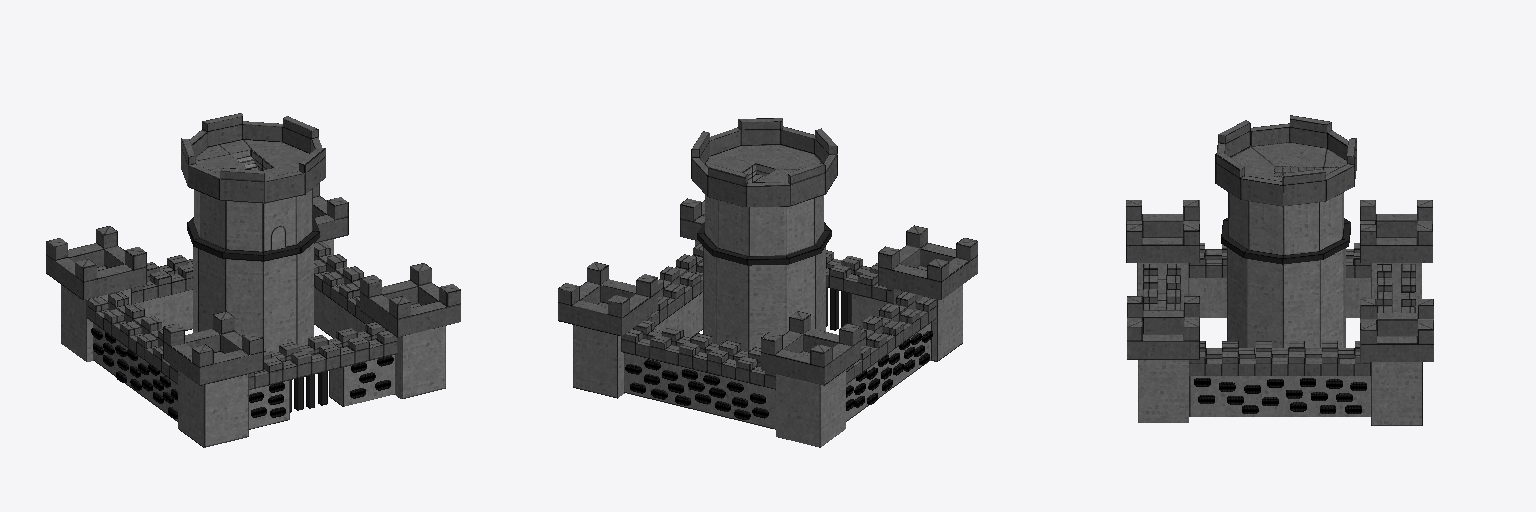
The picture shows the model from 3 angles: view 1: azimuth 30°, elevation 25°; view 2: azimuth 150°, elevation 25°; view 3: azimuth 270°, elevation 25°; orthographic projection.
Parts seen in each view (by area): view 1: Cube.004_Cube.006; view 2: Cube.004_Cube.006; view 3: Cube.004_Cube.006.
Boxes of the visible parts, <box> form: Cube.004_Cube.006: <box>46,113,460,447</box>; Cube.004_Cube.006: <box>558,118,977,447</box>; Cube.004_Cube.006: <box>1126,115,1433,425</box>.
Bounding box in the file's own units: 3.38 × 2.68 × 3.39.
1 materials, 1 textured.